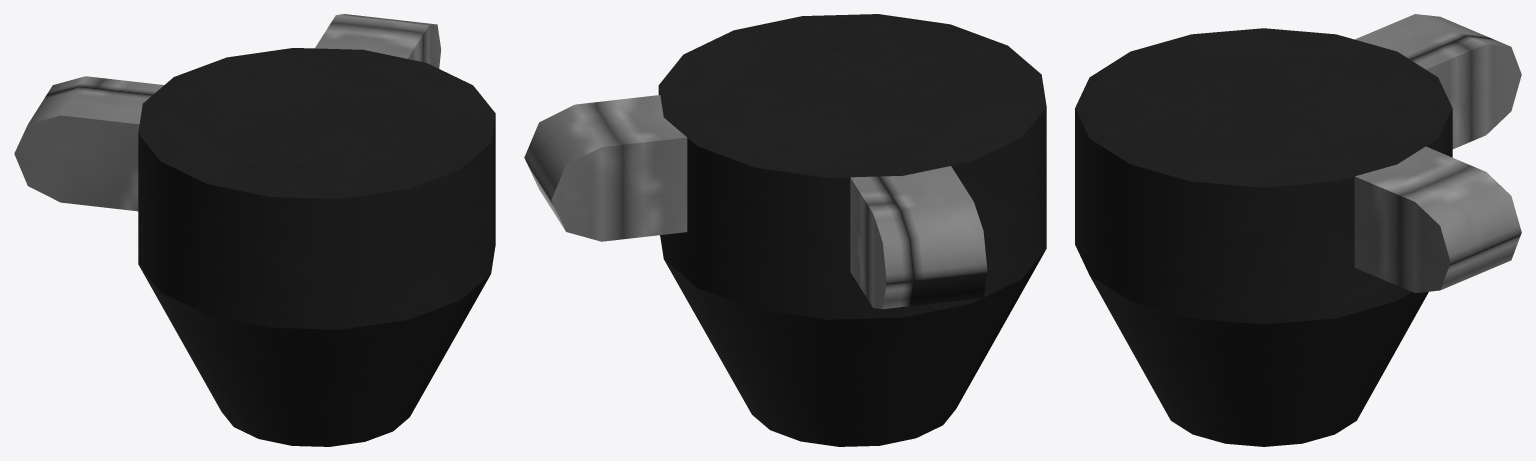
Rendered from srf base.obj.
3 renders of one model, left to right at view 1: azimuth 30°, elevation 25°; view 2: azimuth 150°, elevation 25°; view 3: azimuth 270°, elevation 25°, orthographic. The views are drawn at different scales.
Parts seen in each view (by area): view 1: 2; view 2: 2; view 3: 2.
Boxes of the visible parts, x1=… form: 2: x1=14, y1=14, x2=495, y2=446; 2: x1=524, y1=14, x2=1046, y2=446; 2: x1=1075, y1=14, x2=1521, y2=446.
Size of the model in its own units: 0.5127 by 0.325 by 0.4438.
